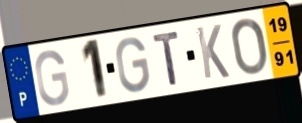1: (79, 37, 111, 103)
G: (33, 48, 71, 108), (114, 35, 152, 95)
K: (194, 23, 232, 82)
O: (229, 15, 270, 77)
T: (151, 29, 182, 88)
